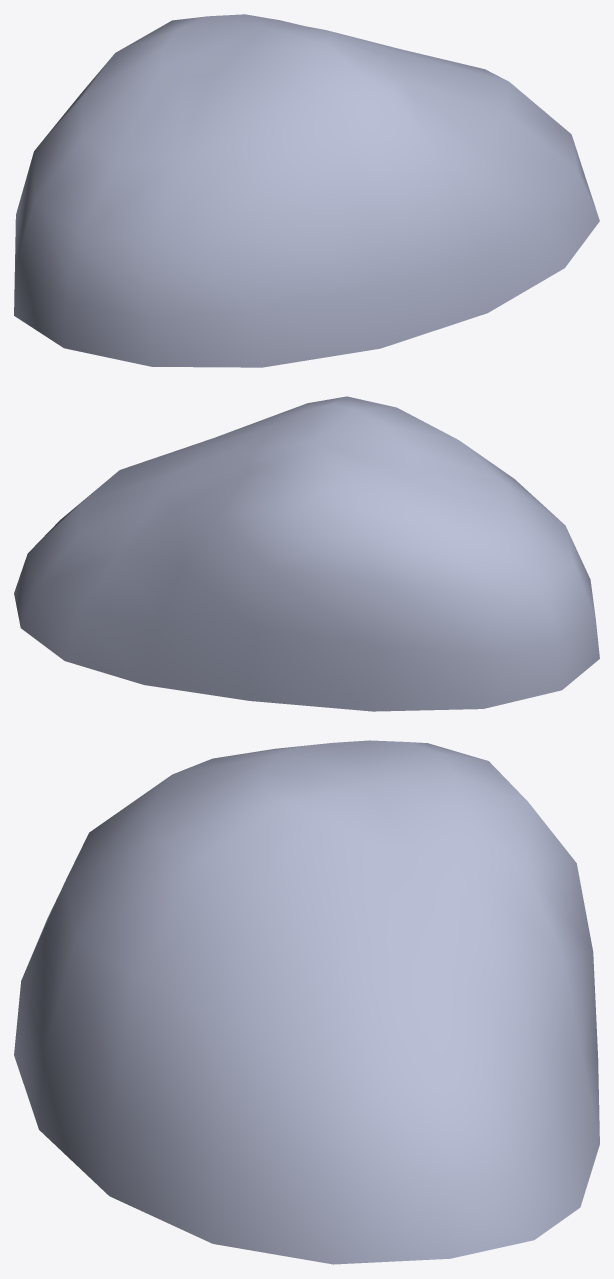
The model's file is Rock_04.fbx.
3 views of the same model, one above another, from view 1: azimuth 30°, elevation 25°; view 2: azimuth 150°, elevation 25°; view 3: azimuth 270°, elevation 25° (orthographic). The views are drawn at different scales.
Visible parts, largest first — view 1: Rock_04; view 2: Rock_04; view 3: Rock_04.
Boxes of the visible parts, x1=… form: Rock_04: x1=14, y1=14, x2=599, y2=367; Rock_04: x1=14, y1=396, x2=599, y2=711; Rock_04: x1=14, y1=740, x2=599, y2=1264.
Bounding box in the file's own units: 93.8 × 37.2 × 63.9.
